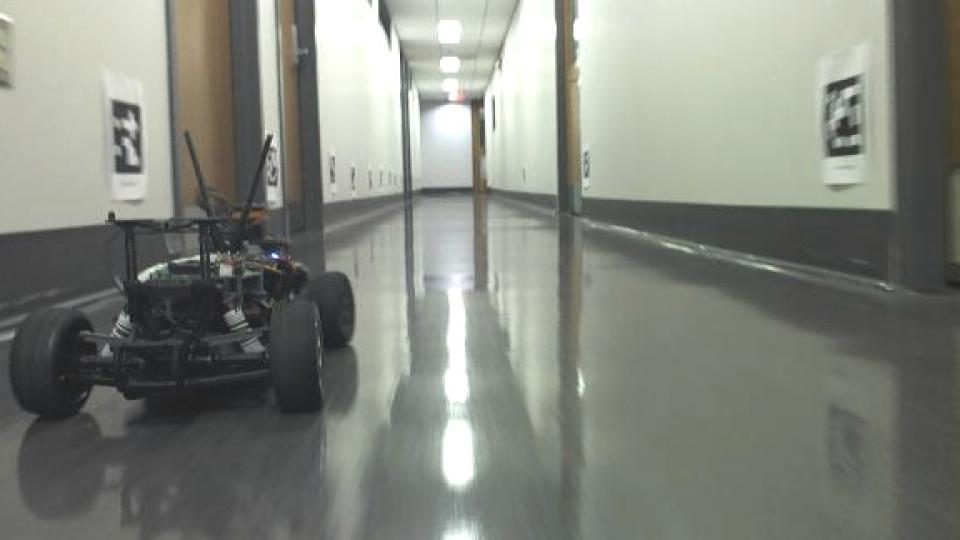car: (7, 128, 360, 424)
